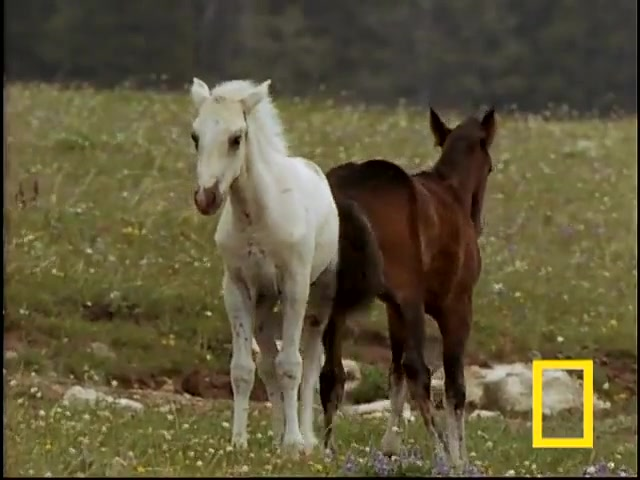horse: (189, 72, 345, 460)
